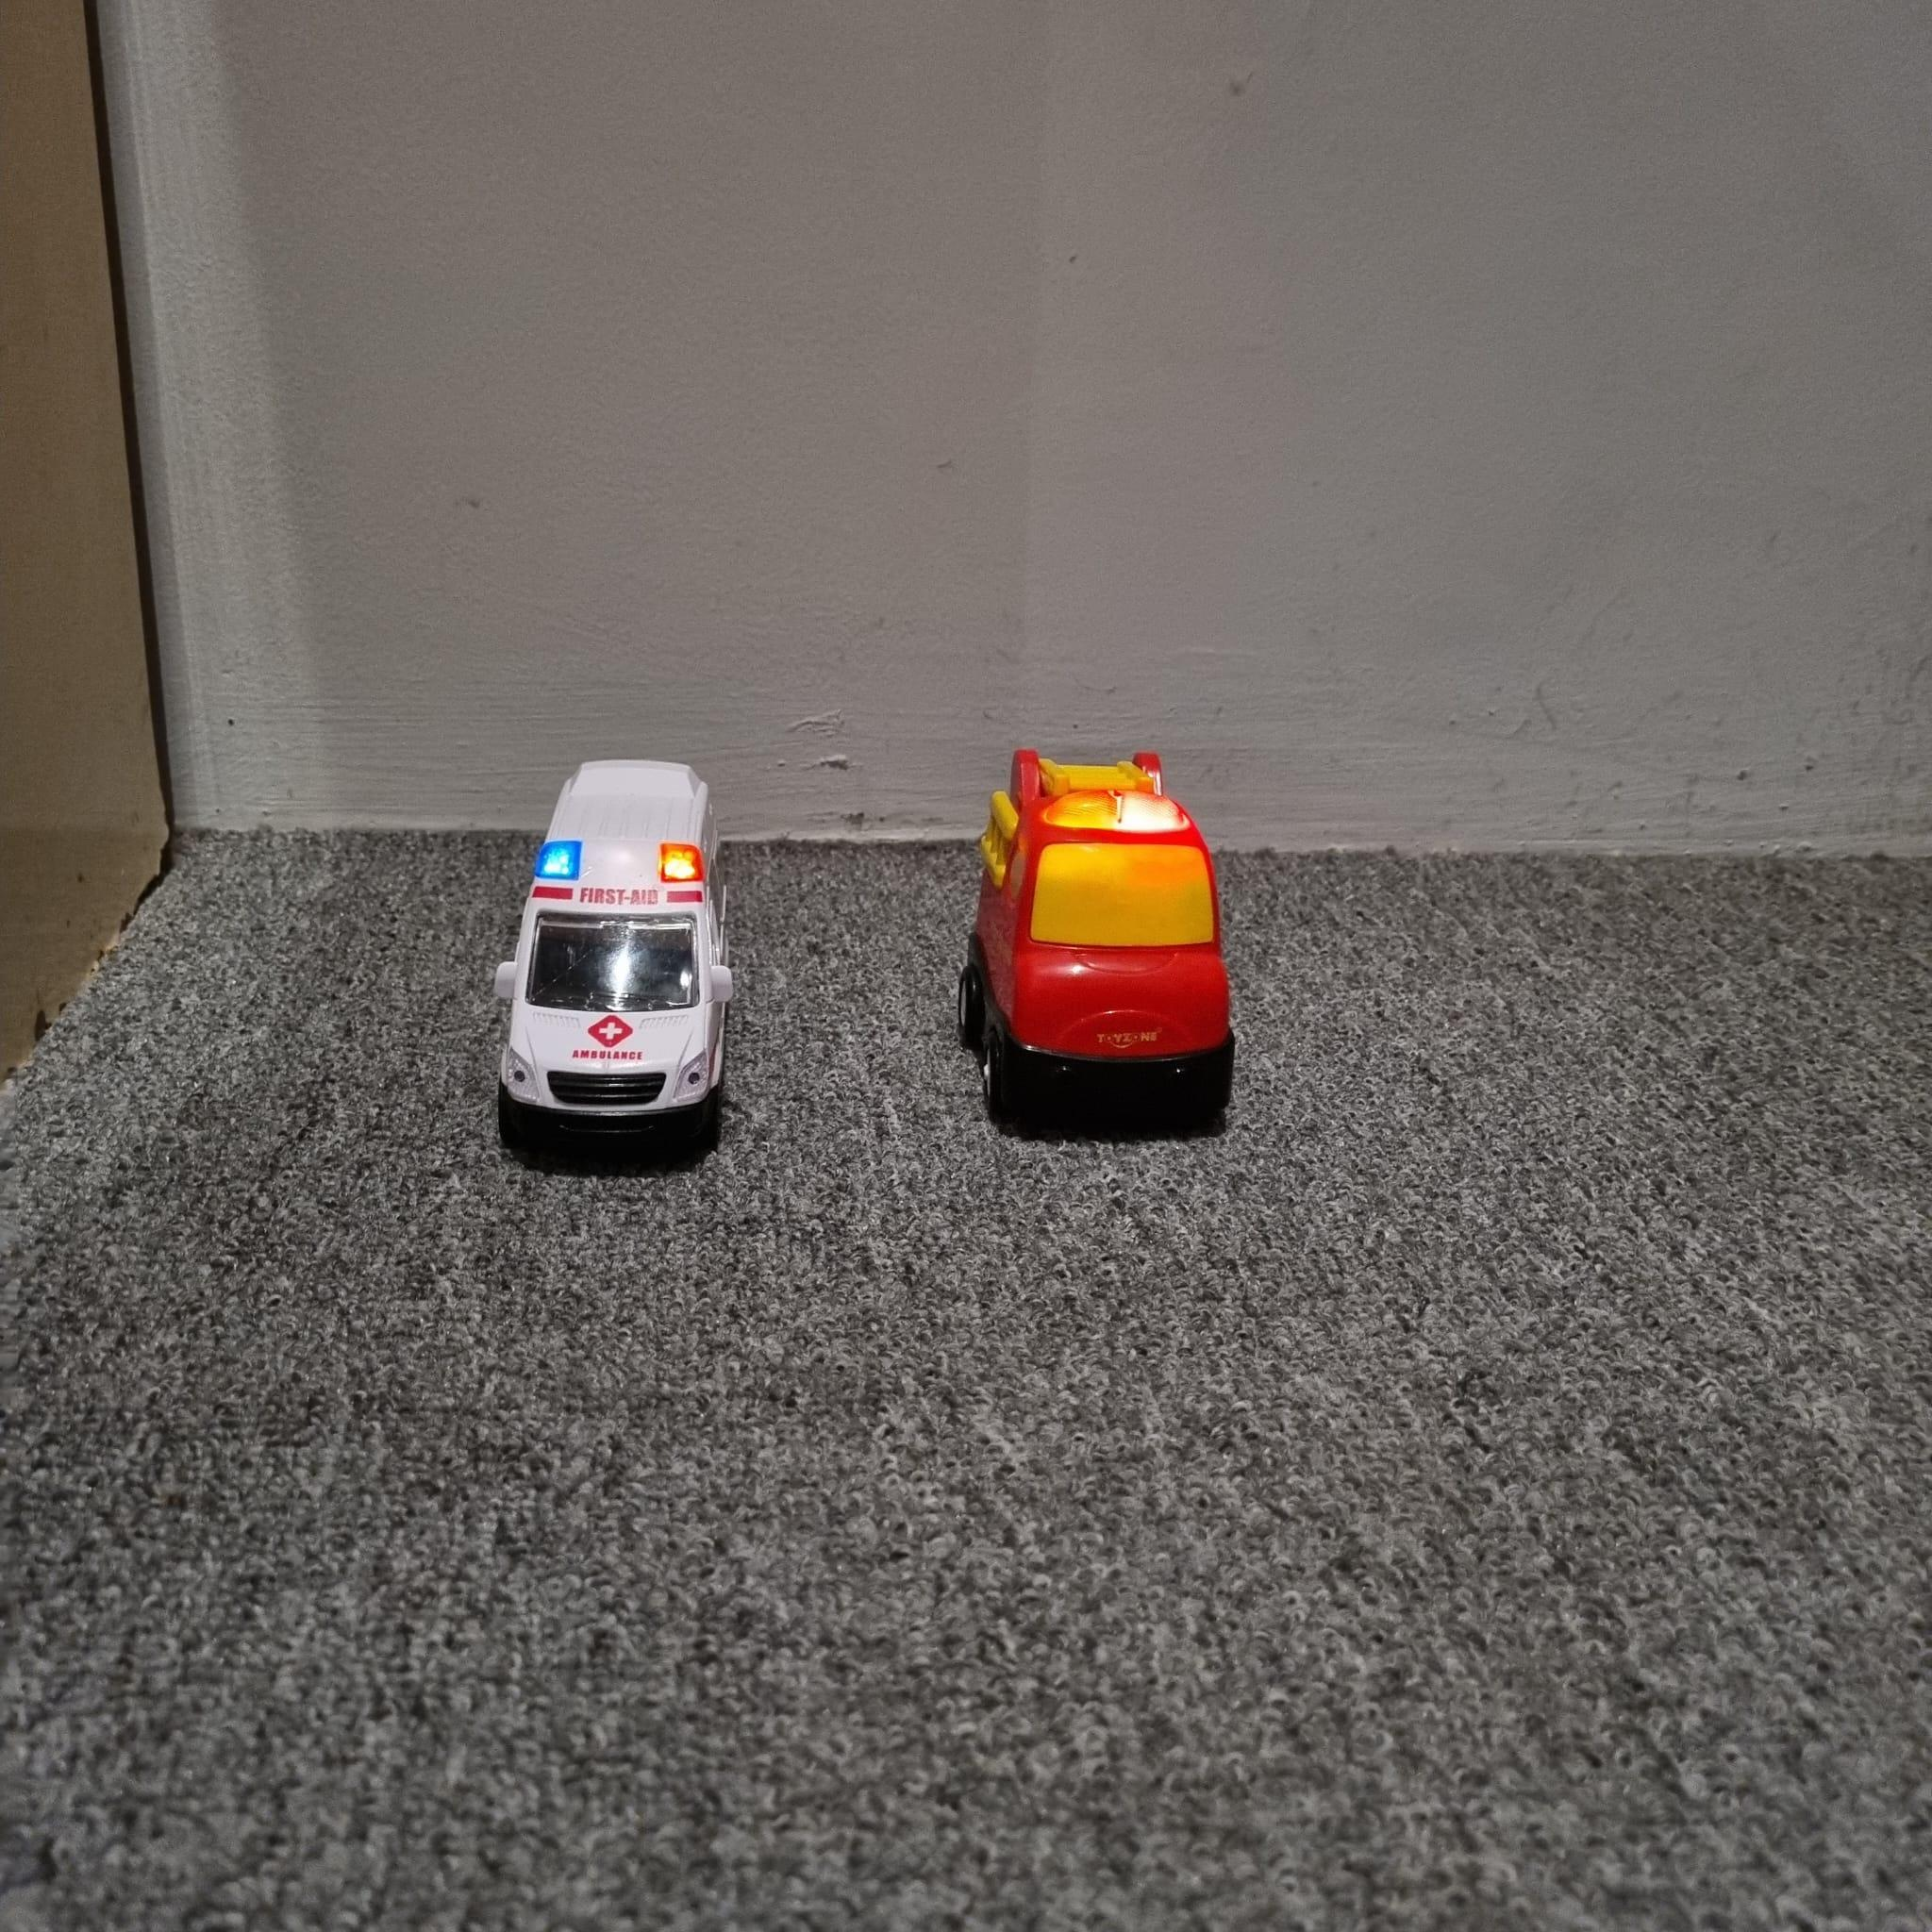ambulance_on: (494, 759, 734, 1152)
firetruck_on: (955, 747, 1237, 1131)
